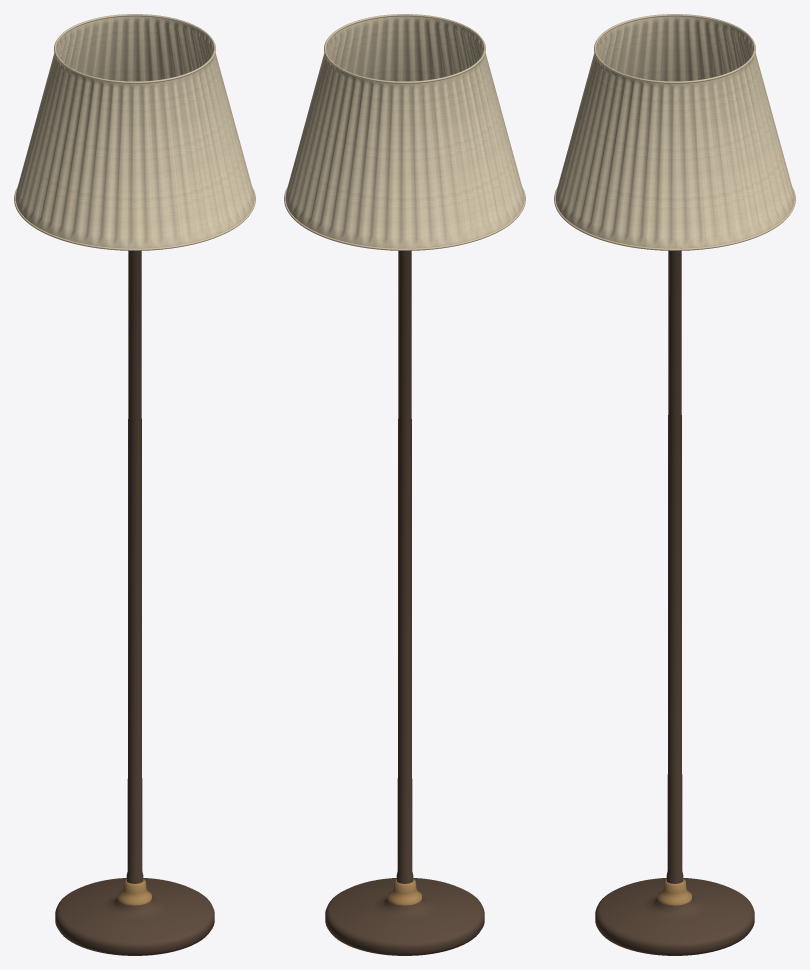
3 views of the same model, side by side, from view 1: azimuth 30°, elevation 25°; view 2: azimuth 150°, elevation 25°; view 3: azimuth 270°, elevation 25° (orthographic).
Parts seen in each view (by area): view 1: sample-lamp; view 2: sample-lamp; view 3: sample-lamp.
Part boxes in pixels (box(x1,y1,x2,y2)): sample-lamp: box(14, 14, 255, 955); sample-lamp: box(284, 14, 525, 955); sample-lamp: box(554, 14, 795, 955).
Bounding box in the file's own units: 0.4 × 1.6 × 0.4.
Materials: 5 (1 with a texture image).
